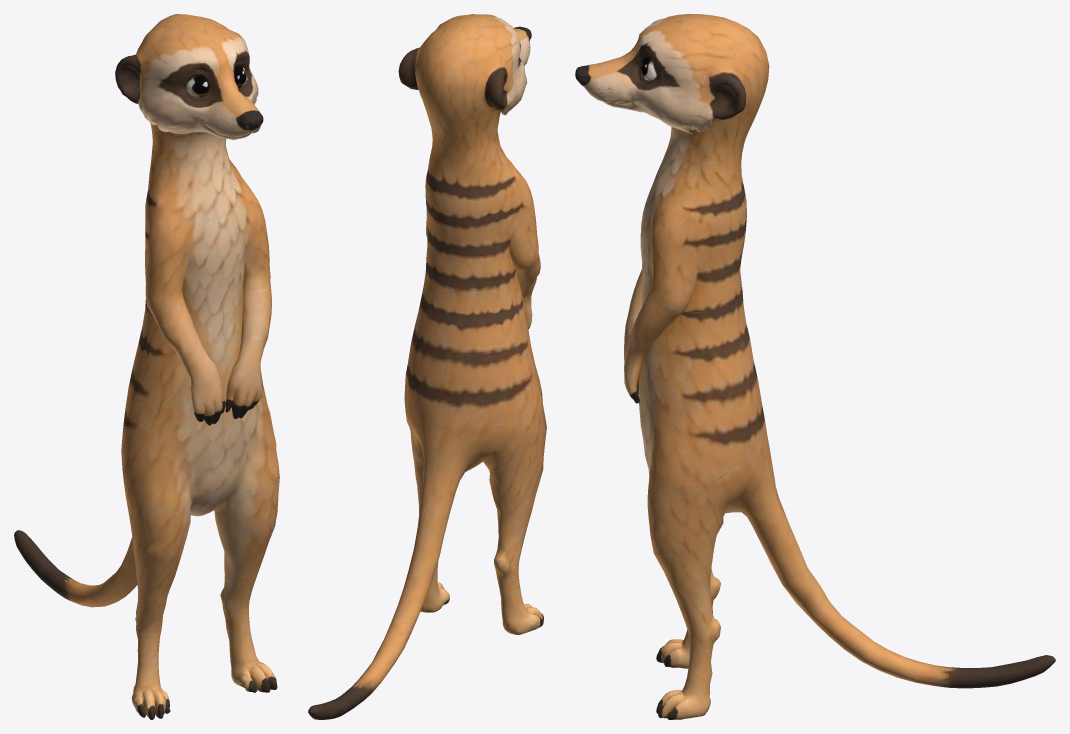
File: meerkat-haruka-stand.glb
3 renders of one model, left to right at view 1: azimuth 30°, elevation 25°; view 2: azimuth 150°, elevation 25°; view 3: azimuth 270°, elevation 25°, orthographic. The views are drawn at different scales.
Visible parts, largest first — view 1: geometry_0; view 2: geometry_0; view 3: geometry_0.
Part boxes in pixels (bbox=[...]): geometry_0: bbox=[14, 14, 279, 719]; geometry_0: bbox=[308, 14, 546, 719]; geometry_0: bbox=[575, 14, 1055, 719].
Size of the model in its own units: 0.2115 by 0.9502 by 0.6177.
Materials: 1 (1 with a texture image).
